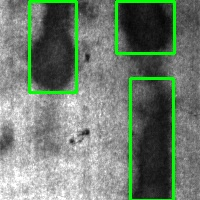patches: (130, 78, 173, 200), (29, 1, 76, 92), (116, 1, 174, 53)
